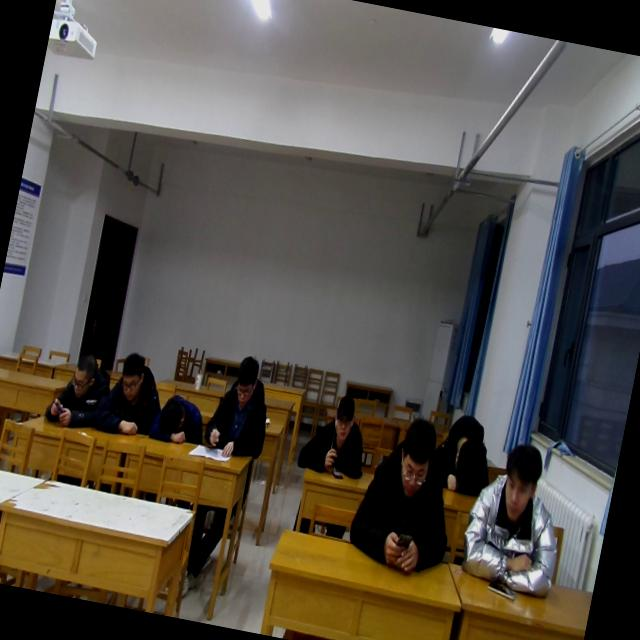bow: (456, 434, 580, 600), (91, 345, 172, 440), (428, 408, 506, 502), (42, 344, 119, 434), (148, 390, 208, 448)
down: (388, 411, 441, 502), (114, 347, 150, 408), (228, 352, 264, 411), (67, 348, 100, 402)
lookup: (494, 439, 546, 524), (328, 392, 360, 444)
sit: (340, 406, 471, 583), (202, 351, 280, 467), (295, 389, 377, 484)
